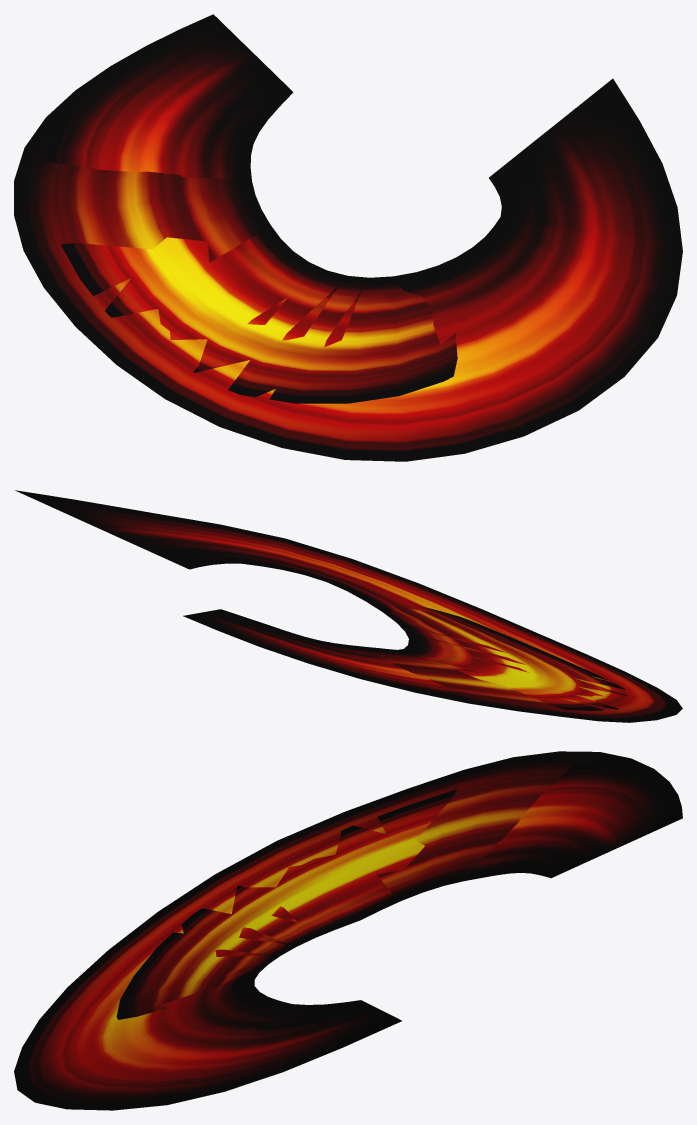
Rendered from effect_huoqilin_1.FBX.
3 renders of one model, top to bottom at view 1: azimuth 30°, elevation 25°; view 2: azimuth 150°, elevation 25°; view 3: azimuth 270°, elevation 25°, orthographic. The views are drawn at different scales.
Parts seen in each view (by area): view 1: effect_huoqiling_1_1, effect_huoqiling_1_2; view 2: effect_huoqiling_1_1, effect_huoqiling_1_2; view 3: effect_huoqiling_1_1, effect_huoqiling_1_2.
Boxes of the visible parts, x1,y1,x2,y2 form: effect_huoqiling_1_1: (14, 17, 682, 461); effect_huoqiling_1_2: (44, 14, 499, 403); effect_huoqiling_1_1: (15, 490, 682, 722); effect_huoqiling_1_2: (183, 564, 627, 710); effect_huoqiling_1_1: (14, 751, 682, 1110); effect_huoqiling_1_2: (116, 763, 682, 1019).
Size of the model in its own units: 340 by 126 by 304.
1 material, 1 textured.
